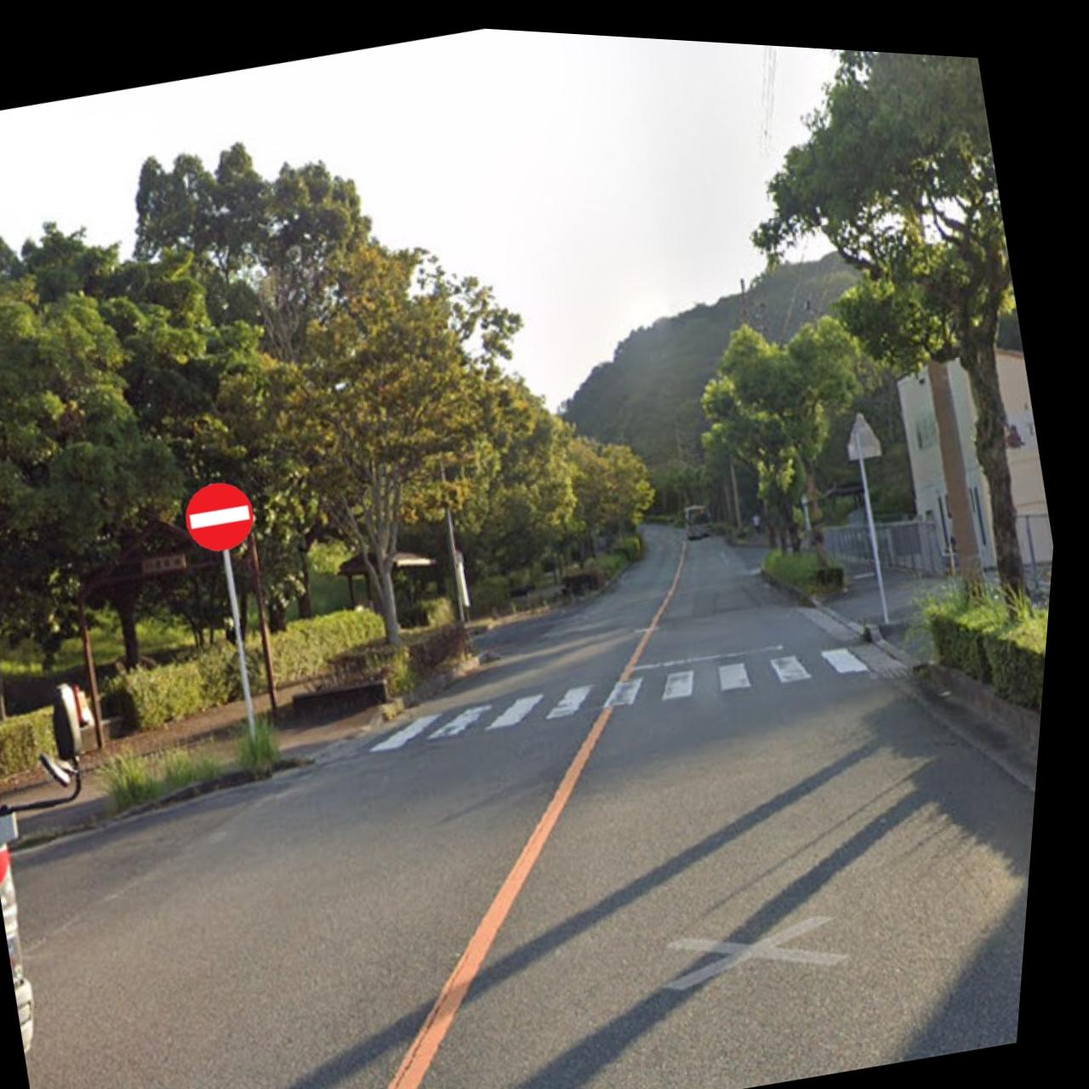barrier: (175, 466, 263, 558)
